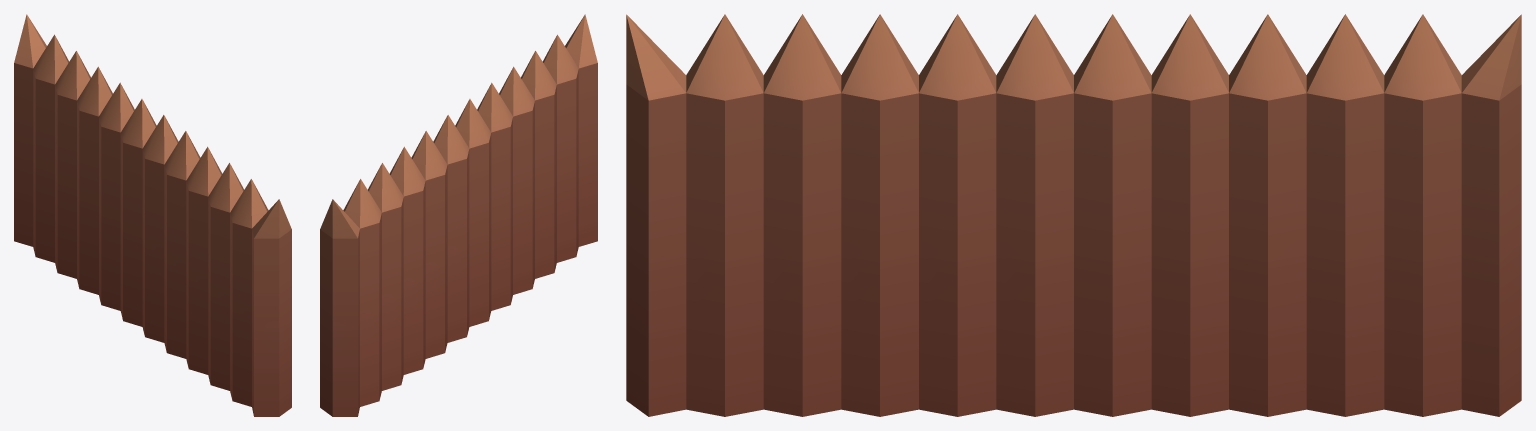
File: fence.glb
3 views of the same model, side by side, from view 1: azimuth 30°, elevation 25°; view 2: azimuth 150°, elevation 25°; view 3: azimuth 270°, elevation 25° (orthographic). The views are drawn at different scales.
Parts seen in each view (by area): view 1: fence_wood_straight; view 2: fence_wood_straight; view 3: fence_wood_straight.
Boxes of the visible parts, x1,y1,x2,y2 form: fence_wood_straight: [14, 14, 291, 416]; fence_wood_straight: [320, 14, 597, 416]; fence_wood_straight: [626, 14, 1521, 416].
Bounding box in the file's own units: 0.0999 × 0.5501 × 1.15.
1 material, 1 textured.
